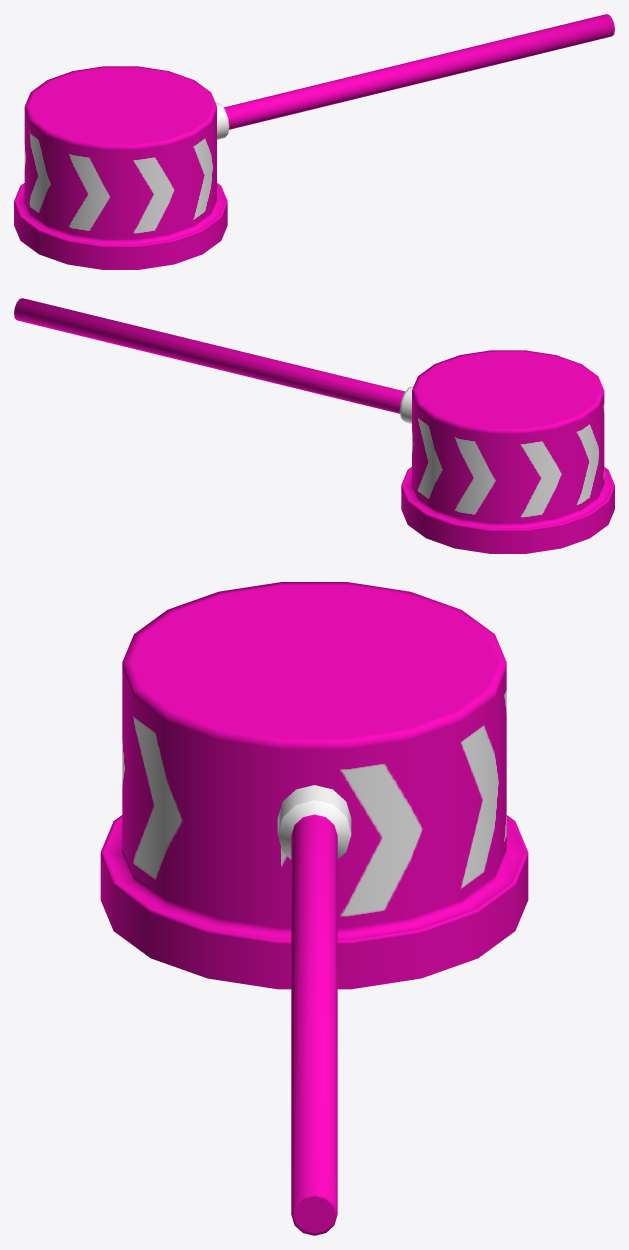
Rendered from trap_coloring_1.fbx.
The picture shows the model from 3 angles, top to bottom: view 1: azimuth 30°, elevation 25°; view 2: azimuth 150°, elevation 25°; view 3: azimuth 270°, elevation 25°; orthographic projection. The views are drawn at different scales.
Visible parts, largest first — view 1: Цилиндр.002, Цилиндр.005; view 2: Цилиндр.002, Цилиндр.005; view 3: Цилиндр.002, Цилиндр.005.
Part boxes in pixels (left/top/right/bottom): Цилиндр.002: left=14, top=66, right=227, bottom=269; Цилиндр.005: left=215, top=14, right=614, bottom=139; Цилиндр.002: left=401, top=350, right=614, bottom=553; Цилиндр.005: left=14, top=298, right=413, bottom=423; Цилиндр.002: left=100, top=582, right=528, bottom=989; Цилиндр.005: left=277, top=785, right=351, bottom=1235.
Bounding box in the file's own units: 788 × 155 × 252.
